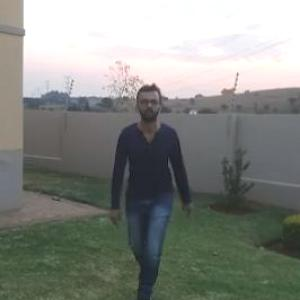follow: (111, 82, 187, 299)
